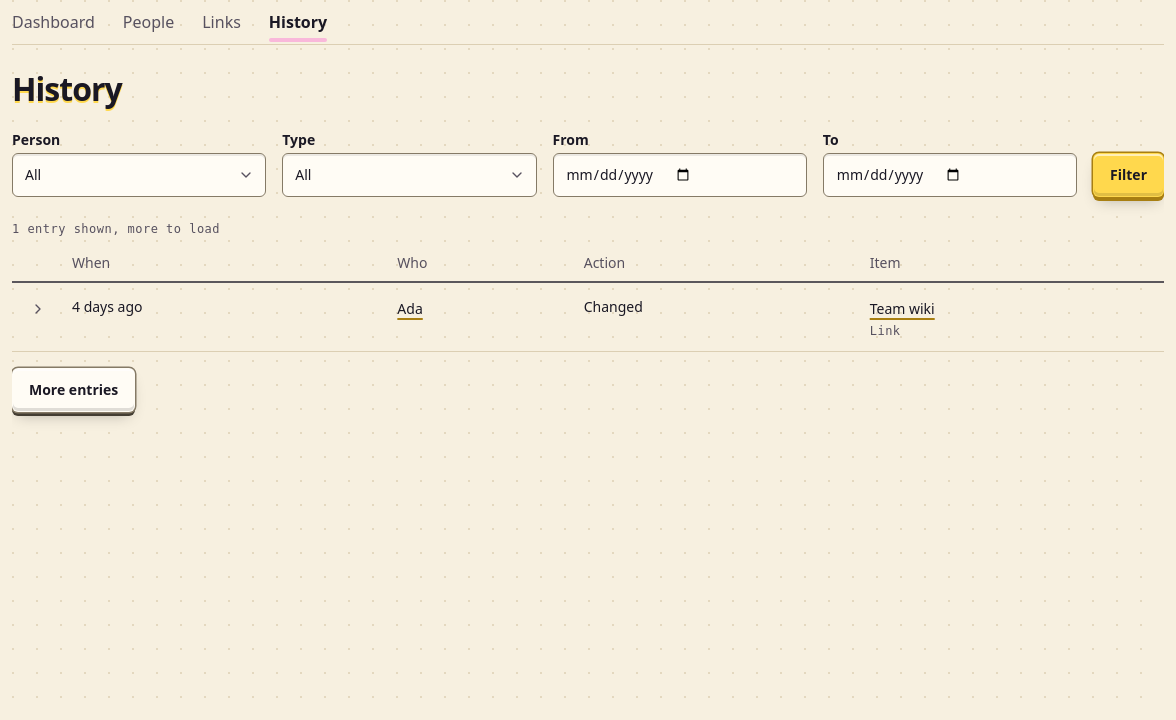
Test: HistoryPage › loads the next page after the last entry and gives the focus to the first new one
The image size is (1176, 720).
Expected: the message reads "1 entry shown, more to load", [12,222,220,236]
Click the button "More entries". click: click(74, 390)
box: [12,368,135,412]
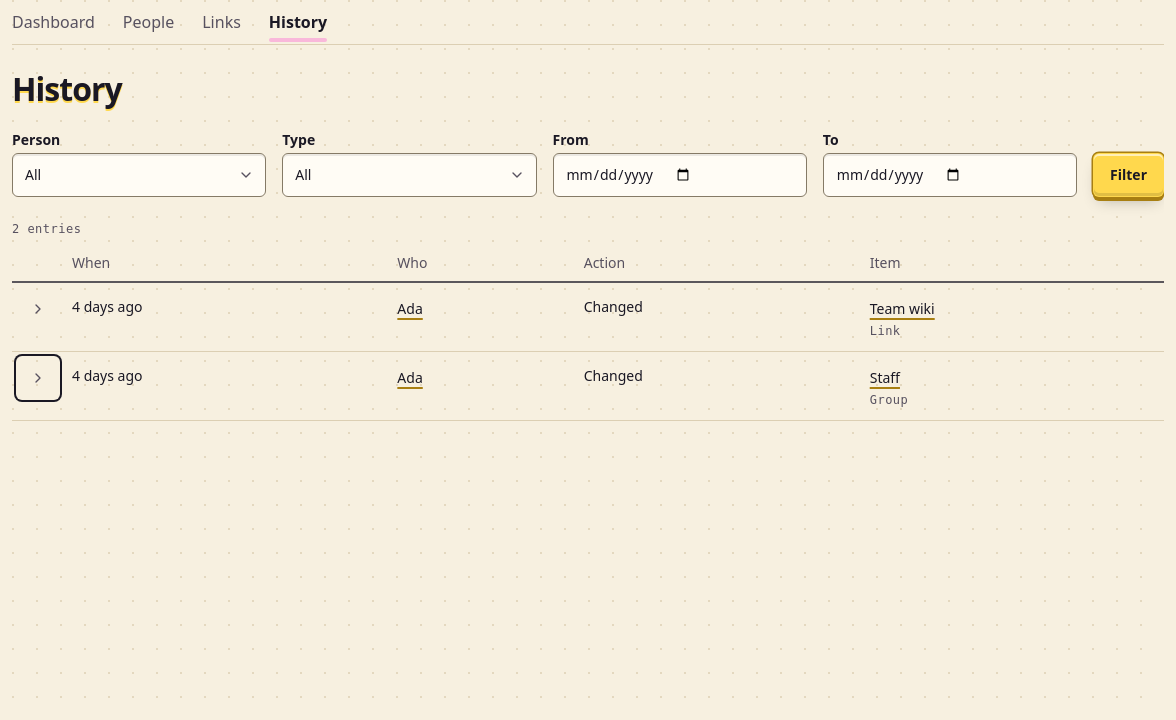
Result: the button "More entries" is gone
Result: the message reads "2 entries" at [12,222,81,236]
